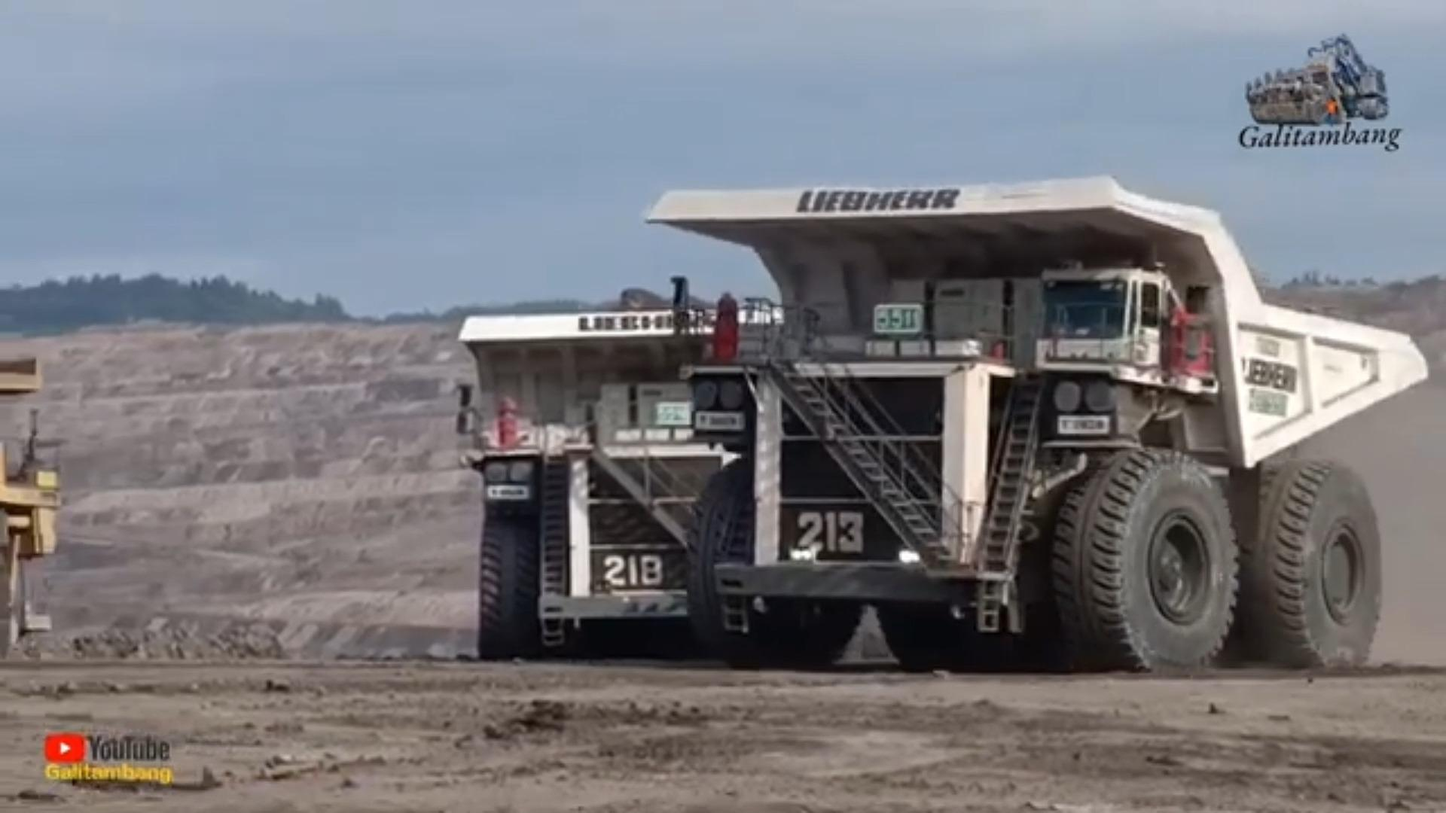HD-Truck: (647, 176, 1428, 671), (456, 300, 736, 659)
